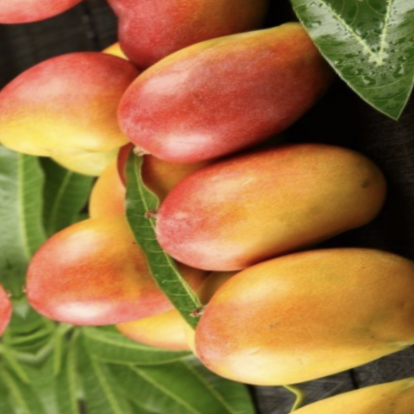mango: (77, 0, 370, 196), (156, 212, 414, 414), (142, 106, 403, 293), (0, 179, 214, 360)
